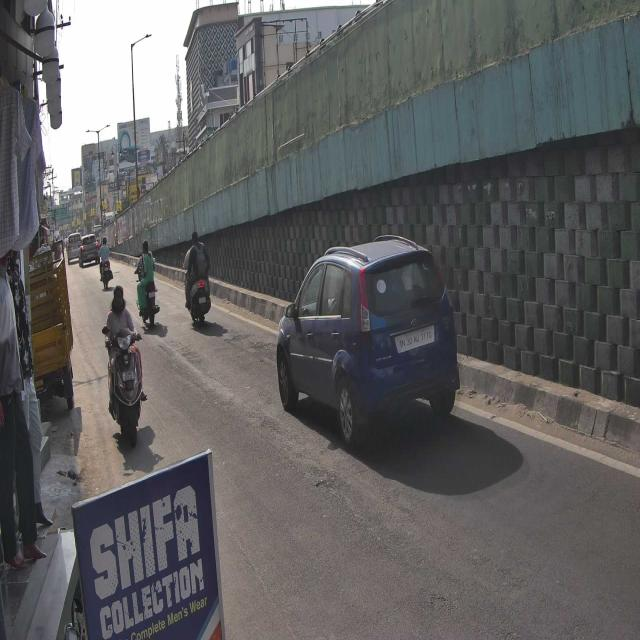single_rider: (101, 283, 148, 447)
